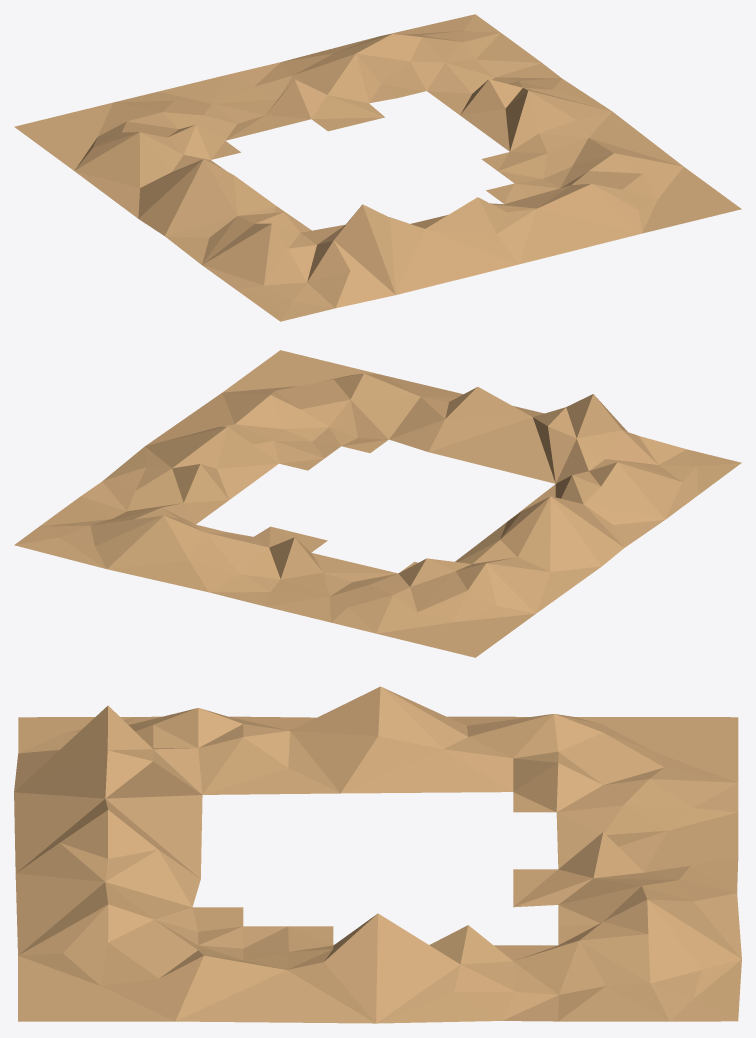
File: Horizon.fbx
The picture shows the model from 3 angles, top to bottom: view 1: azimuth 30°, elevation 25°; view 2: azimuth 150°, elevation 25°; view 3: azimuth 270°, elevation 25°; orthographic projection. The views are drawn at different scales.
Parts seen in each view (by area): view 1: Horizon; view 2: Horizon; view 3: Horizon.
Boxes of the visible parts, x1,y1,x2,y2 form: Horizon: [14, 14, 741, 321]; Horizon: [14, 350, 741, 657]; Horizon: [14, 686, 741, 1023].
Size of the model in its own units: 258 by 36.59 by 259.
